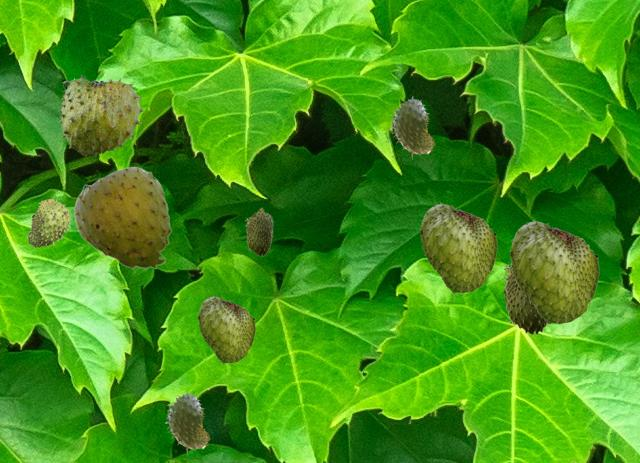guyabano: (72, 166, 171, 270), (510, 219, 598, 323), (58, 74, 143, 155), (420, 202, 496, 292), (198, 295, 254, 362), (503, 263, 547, 334), (390, 96, 434, 158), (165, 391, 209, 453), (26, 199, 69, 247), (245, 207, 273, 255)
